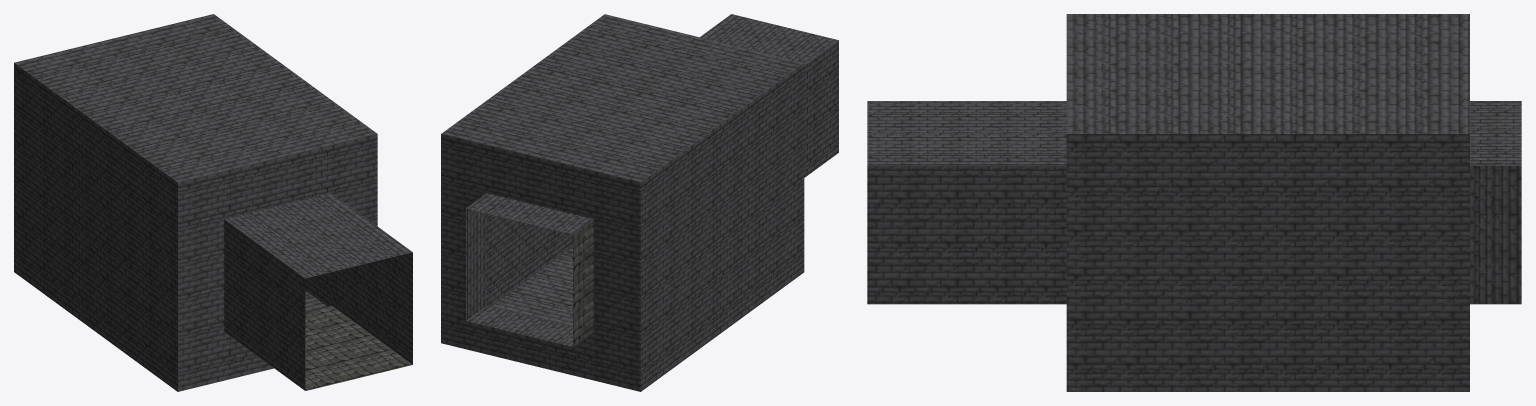
Rendered from Advanced Level Shell.fbx.
The picture shows the model from 3 angles, left to right: view 1: azimuth 30°, elevation 25°; view 2: azimuth 150°, elevation 25°; view 3: azimuth 270°, elevation 25°; orthographic projection. The views are drawn at different scales.
Parts seen in each view (by area): view 1: Level; view 2: Level; view 3: Level.
Boxes of the visible parts, x1,y1,x2,y2 form: Level: (14,14,412,391); Level: (441,14,838,391); Level: (867,14,1521,391).
Size of the model in its own units: 1204 by 1206 by 2774.
Materials: 1 (1 with a texture image).
